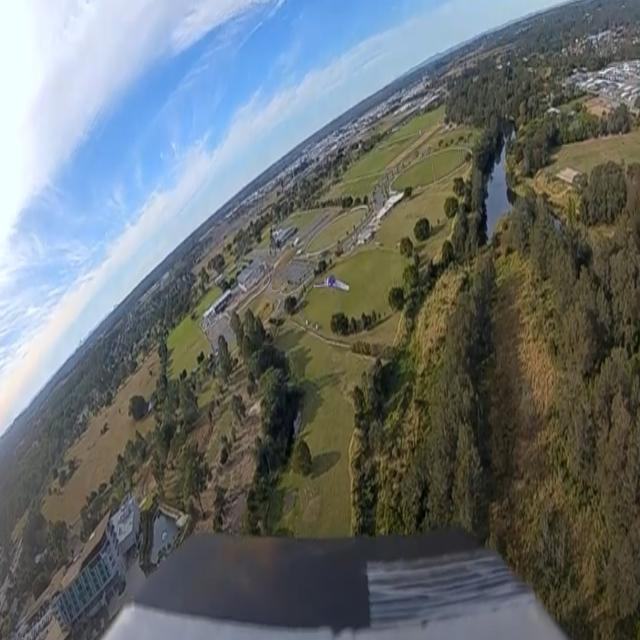iha: (308, 274, 344, 294)
